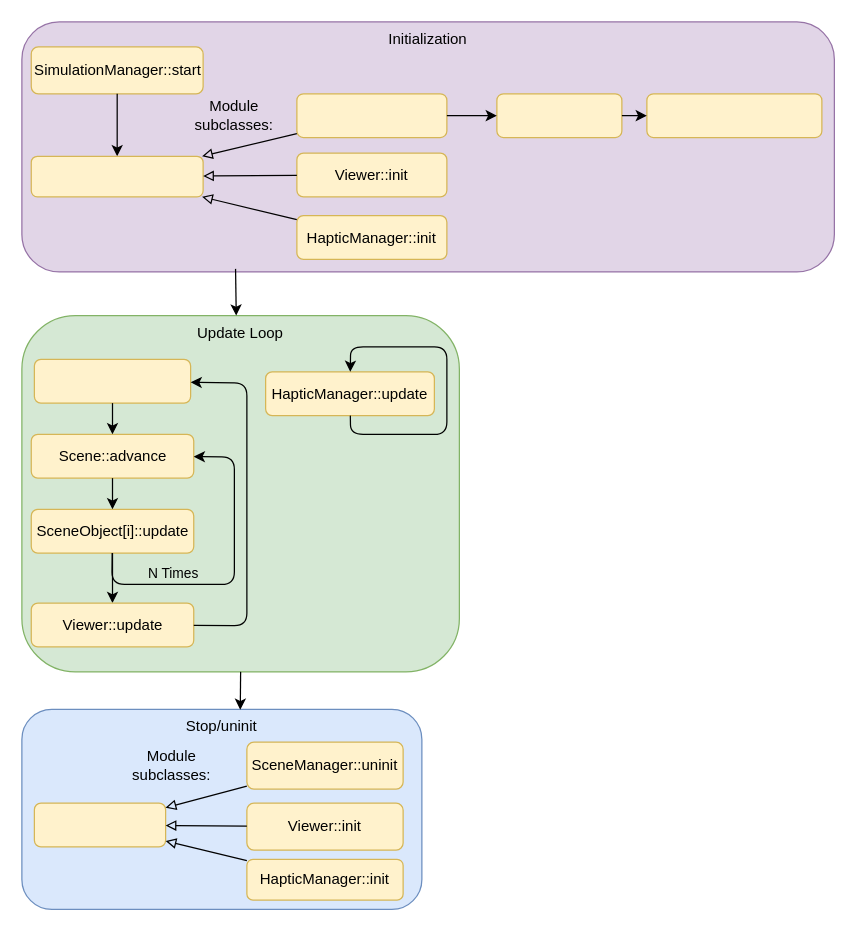
This 856x931 diagram has some shape labels left out. Each missing label, with the centre of its shape:
"Module[i]::init" belongs at point (116, 176).
"Module[i]::uninit" belongs at point (99, 824).
"Scene::initialize" belongs at point (559, 115).
"SceneManager::init" belongs at point (371, 115).
"SceneManager::update" belongs at point (112, 380).
"SceneObjects[i]::initialize" belongs at point (734, 115).
